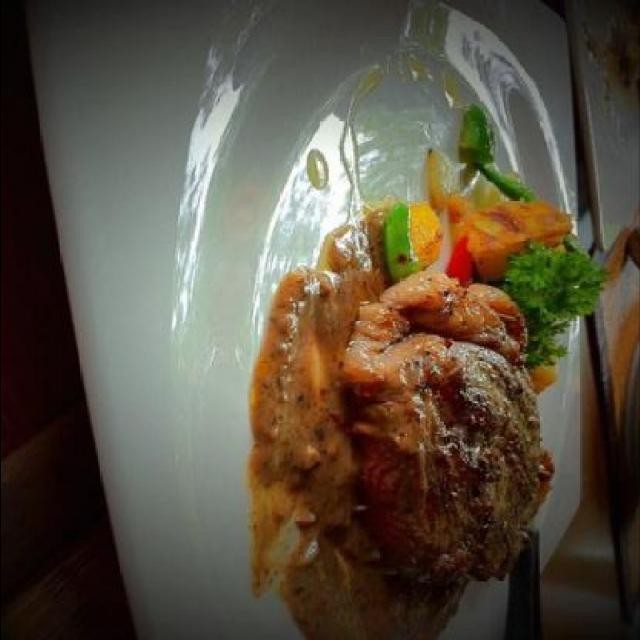Steak: (350, 290, 556, 588)
